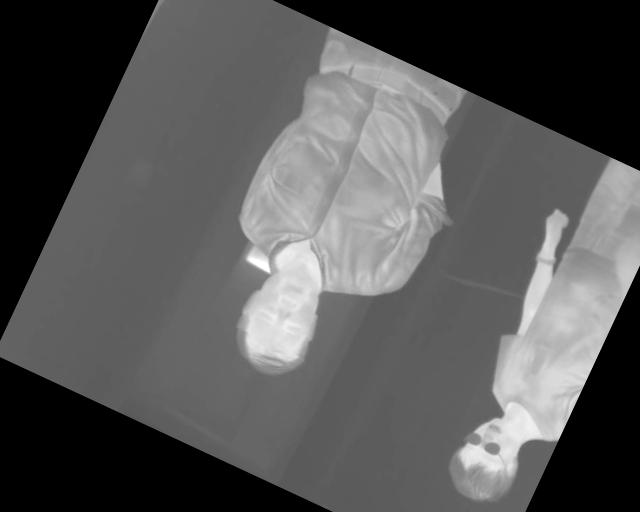face: (219, 252, 340, 388), (436, 403, 536, 512)
